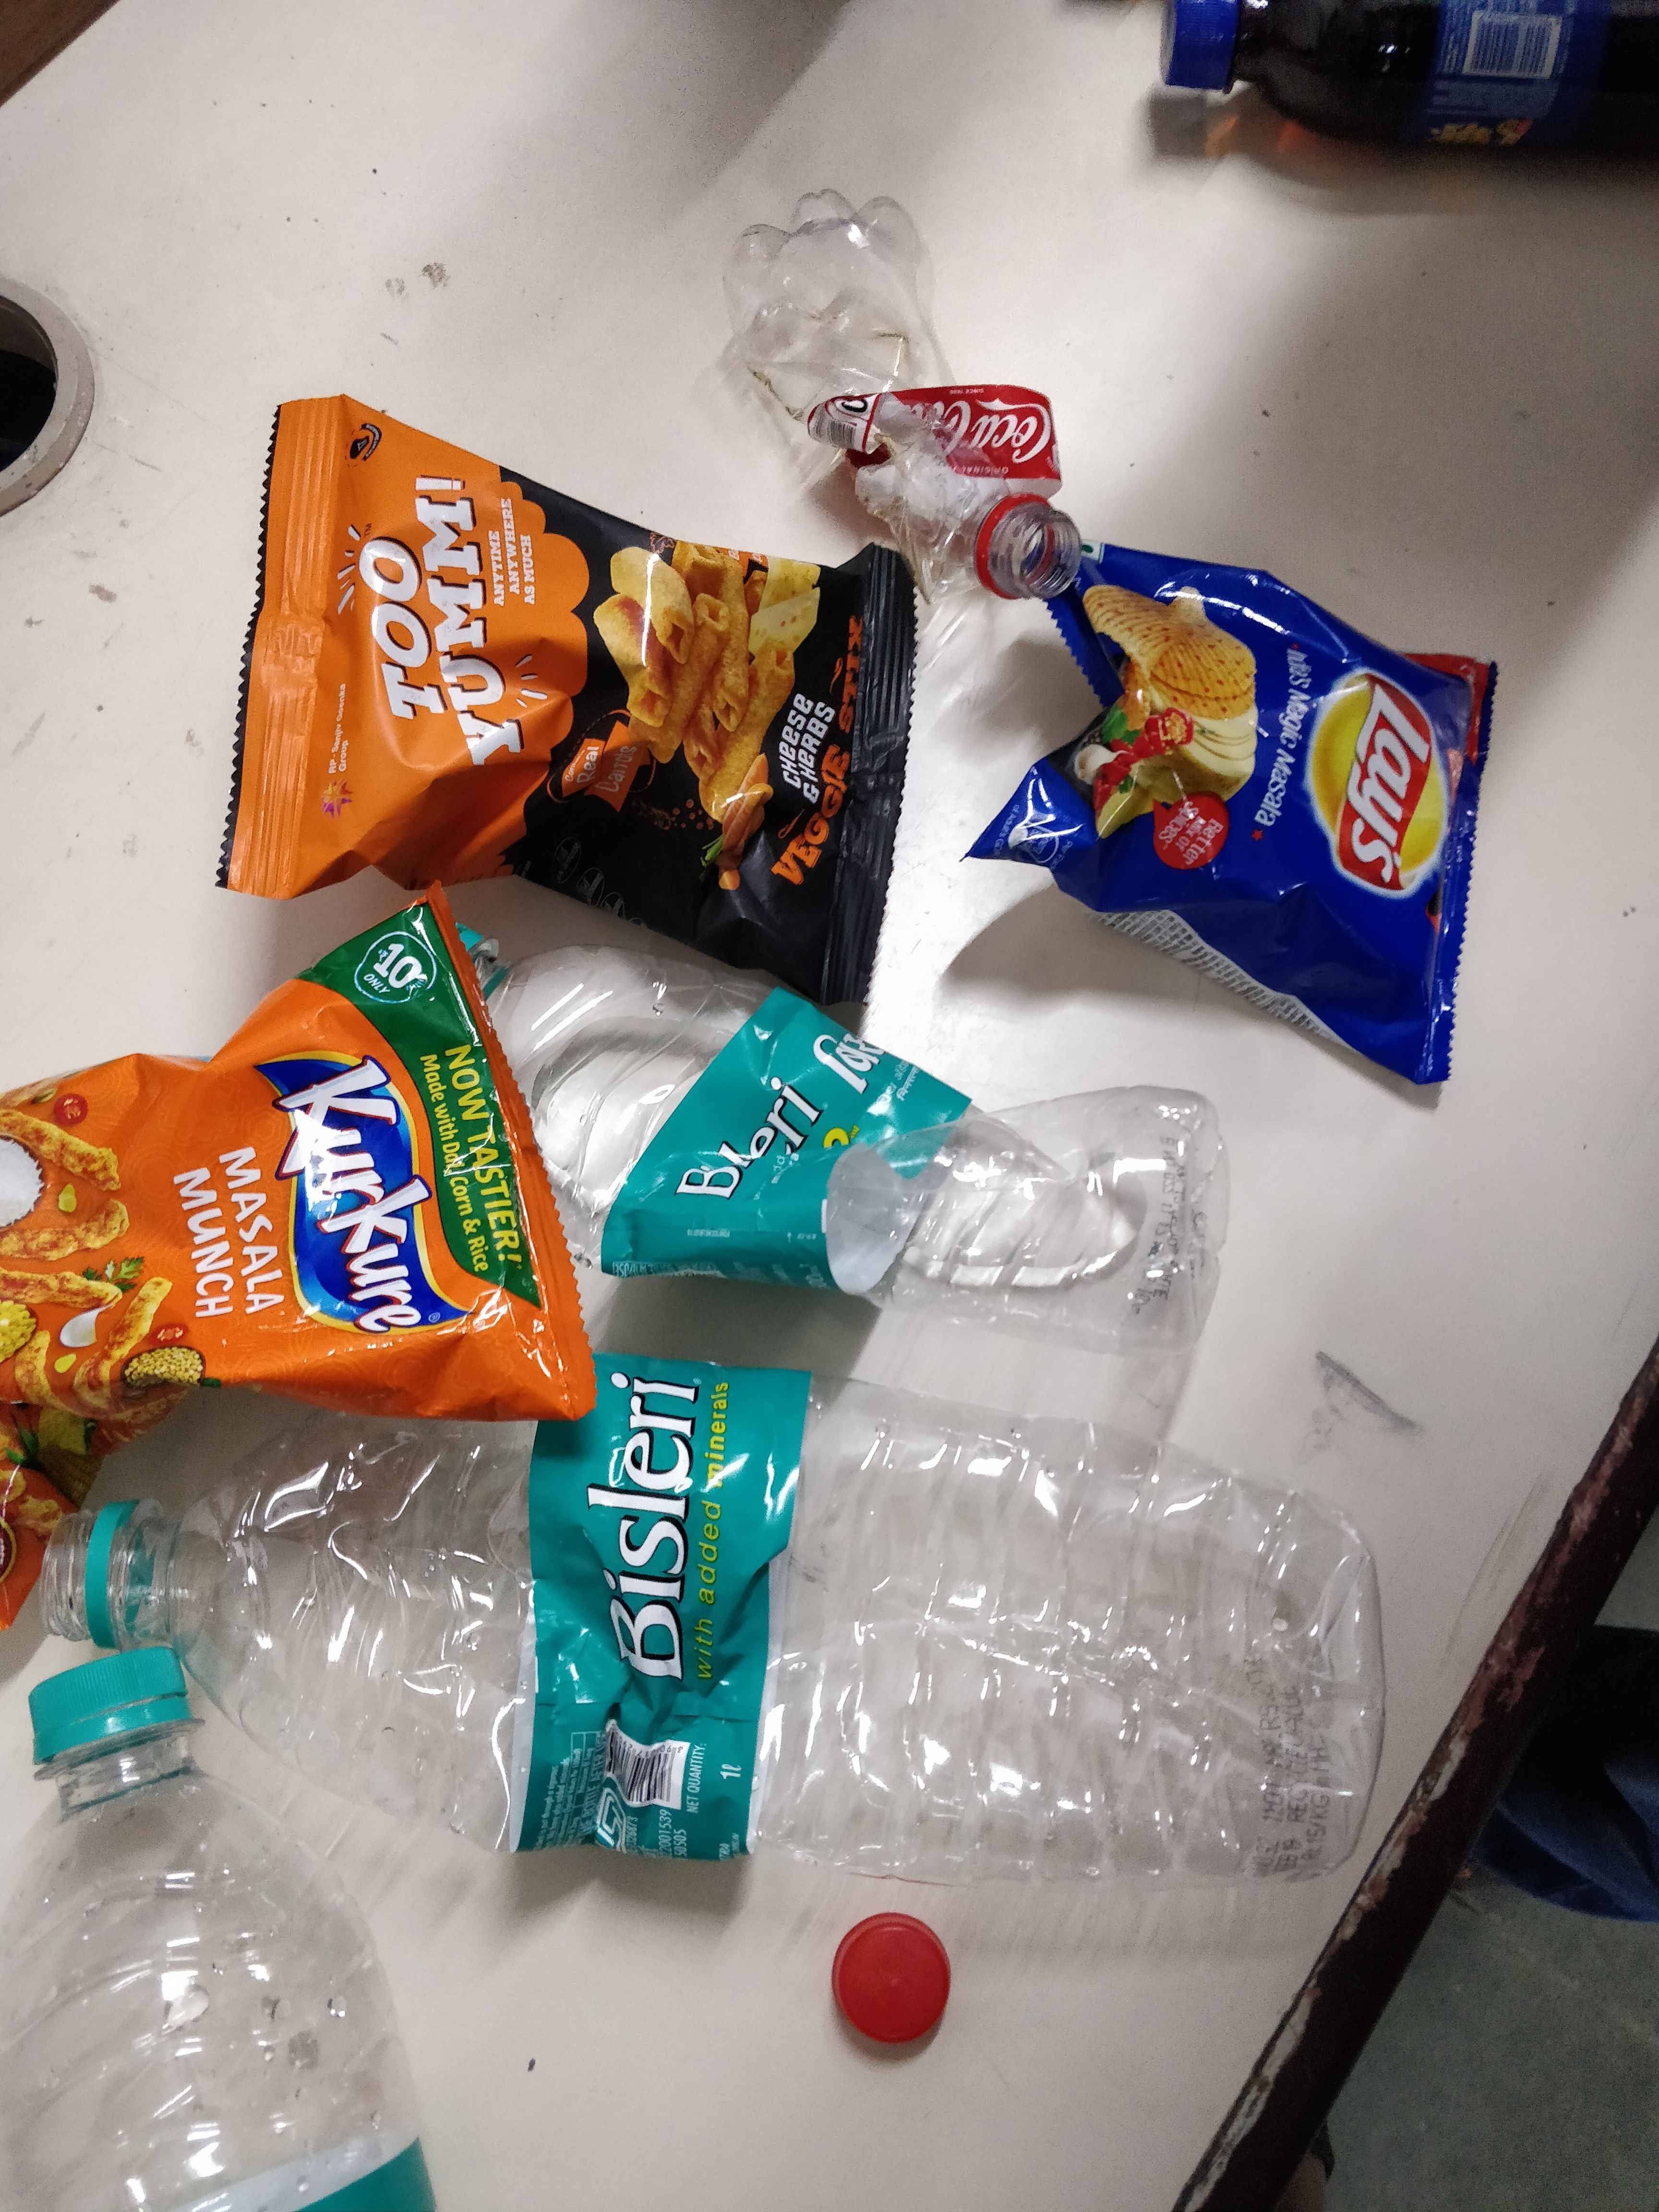Bisleri: (572, 1367, 758, 1817), (671, 1035, 884, 1240)
Coca-Cola: (915, 401, 1073, 481)
Lays: (1303, 641, 1460, 920)
kurkure: (260, 1035, 479, 1352)
pepsi: (1439, 45, 1546, 157)
tooyumm: (347, 449, 568, 775)
